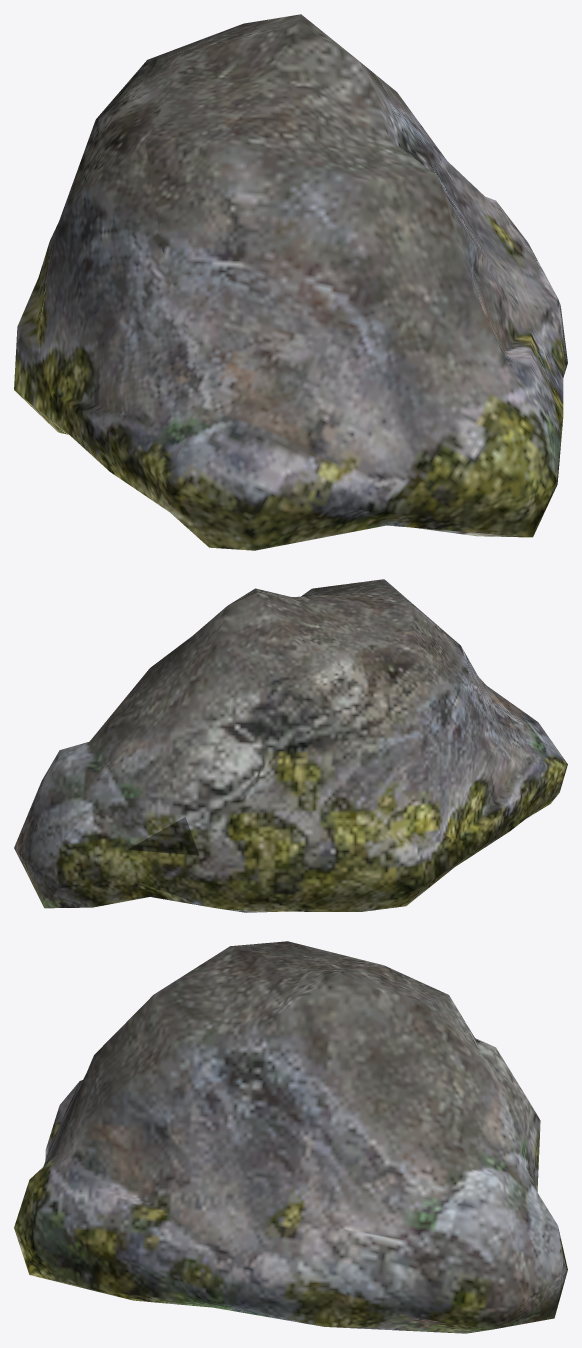
File: Cit_Rock.FBX
3 views of the same model, one above another, from view 1: azimuth 30°, elevation 25°; view 2: azimuth 150°, elevation 25°; view 3: azimuth 270°, elevation 25° (orthographic). The views are drawn at different scales.
Visible parts, largest first — view 1: Cit_Rock; view 2: Cit_Rock; view 3: Cit_Rock.
Boxes of the visible parts, x1,y1,x2,y2 form: Cit_Rock: [14, 14, 567, 550]; Cit_Rock: [14, 579, 567, 912]; Cit_Rock: [14, 941, 567, 1333].
Size of the model in its own units: 0.8343 by 0.5953 by 1.01.
